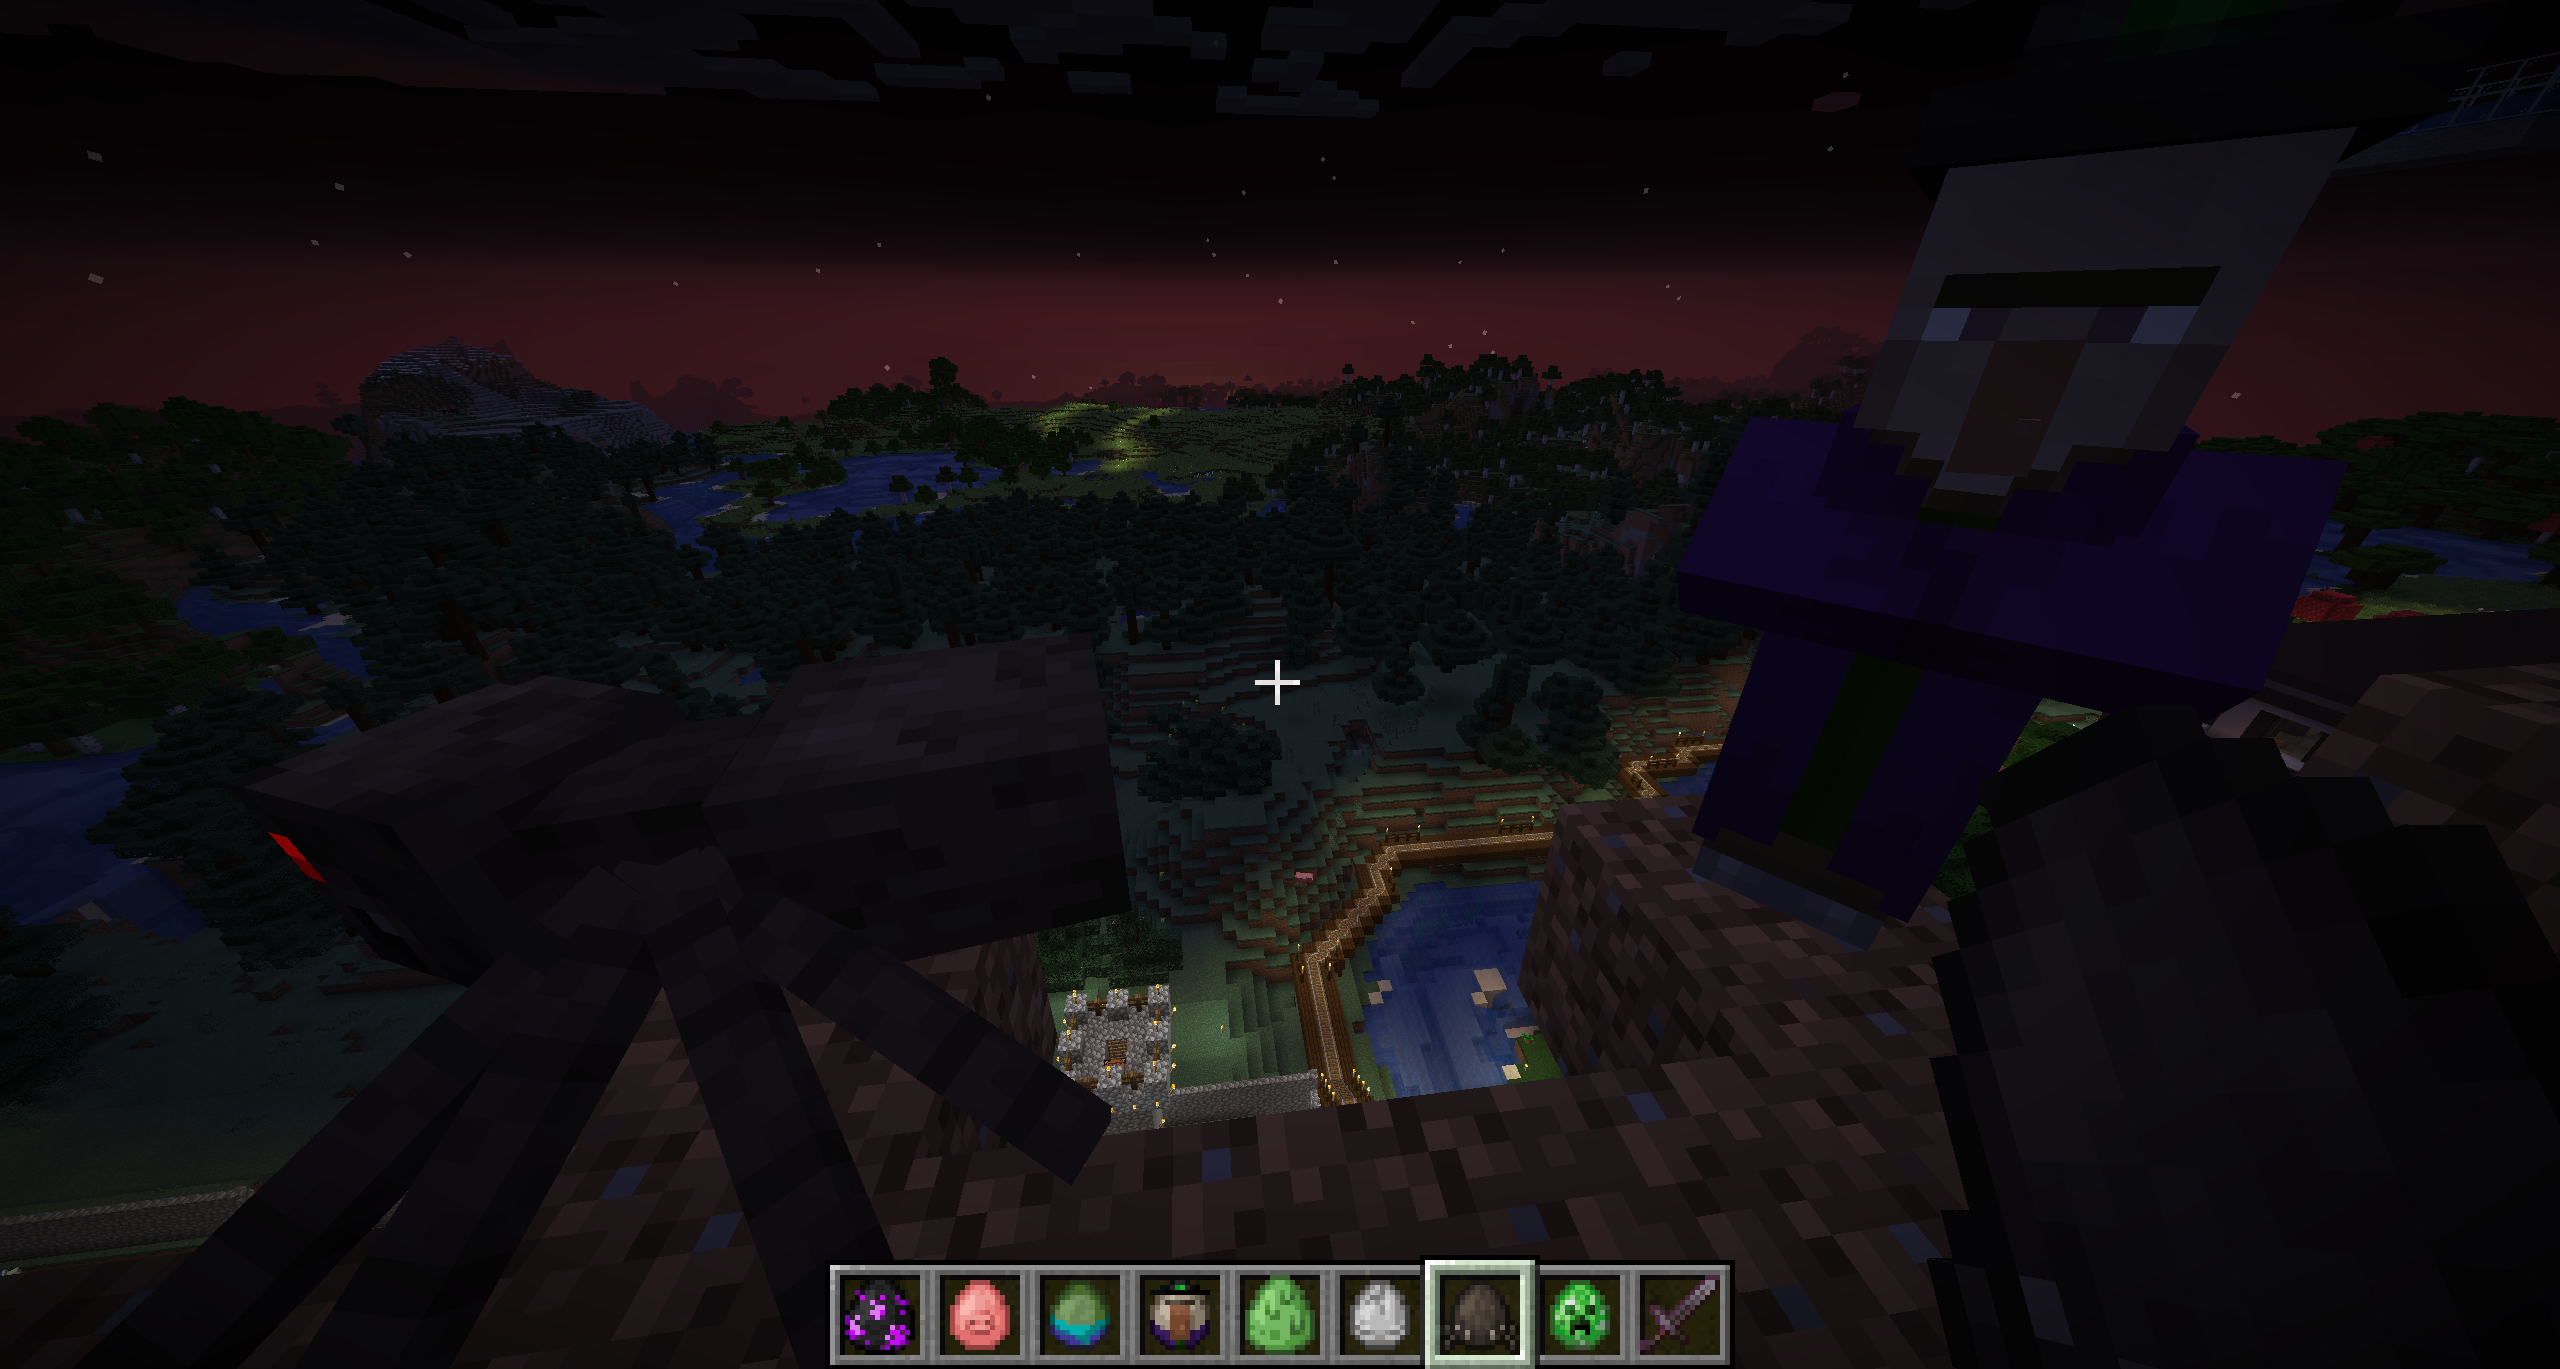araignees: (141, 619, 1139, 1257)
sorcieres: (1678, 8, 2347, 968)
